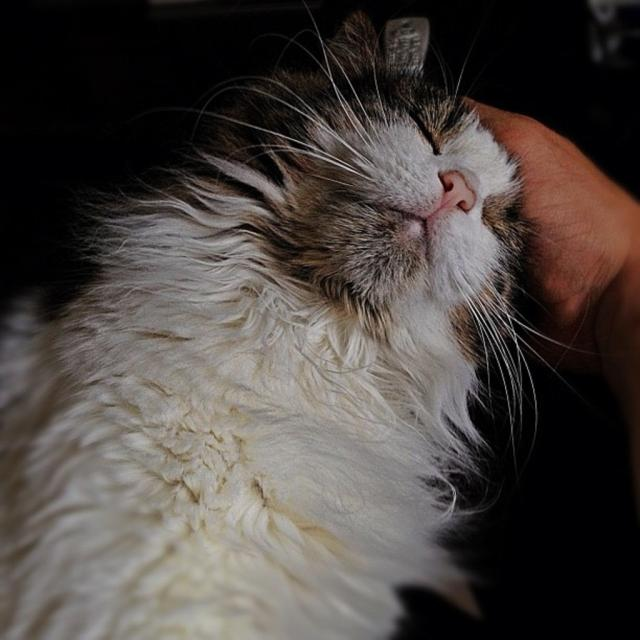Cat: (0, 1, 601, 638)
